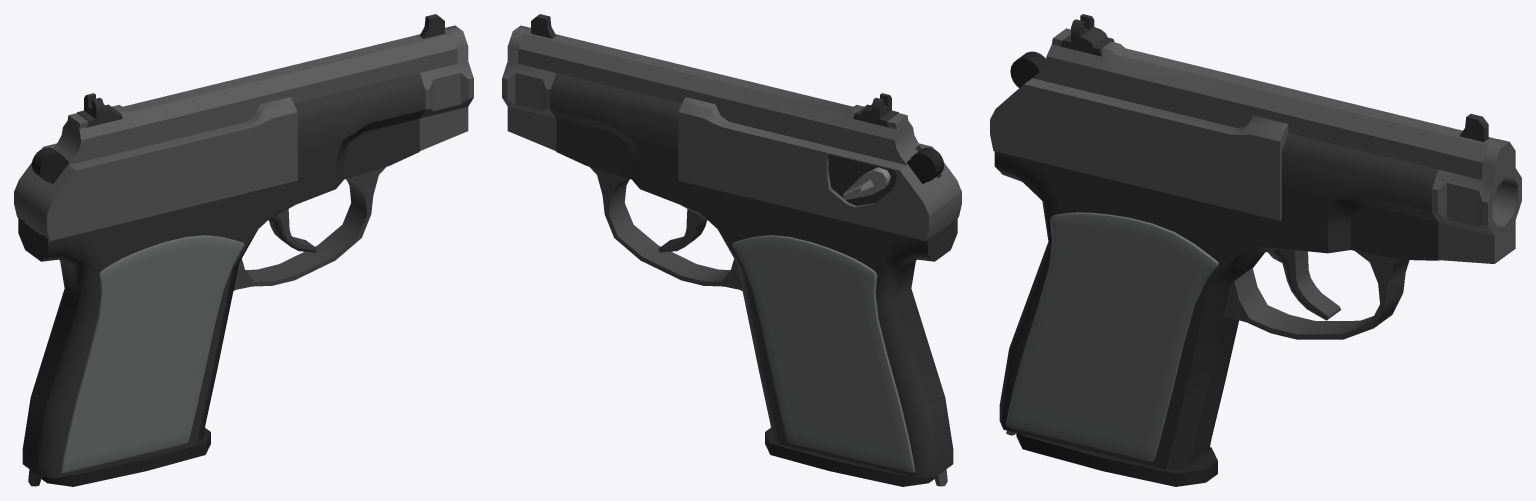
The model's file is PSS_Assassin_Pistol_Mesh.fbx.
The picture shows the model from 3 angles, left to right: view 1: azimuth 30°, elevation 25°; view 2: azimuth 150°, elevation 25°; view 3: azimuth 330°, elevation 25°; orthographic projection. The views are drawn at different scales.
Visible parts, largest first — view 1: PSS_Assassin_Pistol; view 2: PSS_Assassin_Pistol; view 3: PSS_Assassin_Pistol.
Boxes of the visible parts, <box> form: PSS_Assassin_Pistol: <box>14,14,473,486</box>; PSS_Assassin_Pistol: <box>502,14,961,486</box>; PSS_Assassin_Pistol: <box>990,14,1521,486</box>.
Bounding box in the file's own units: 0.3029 × 0.2525 × 0.048.
